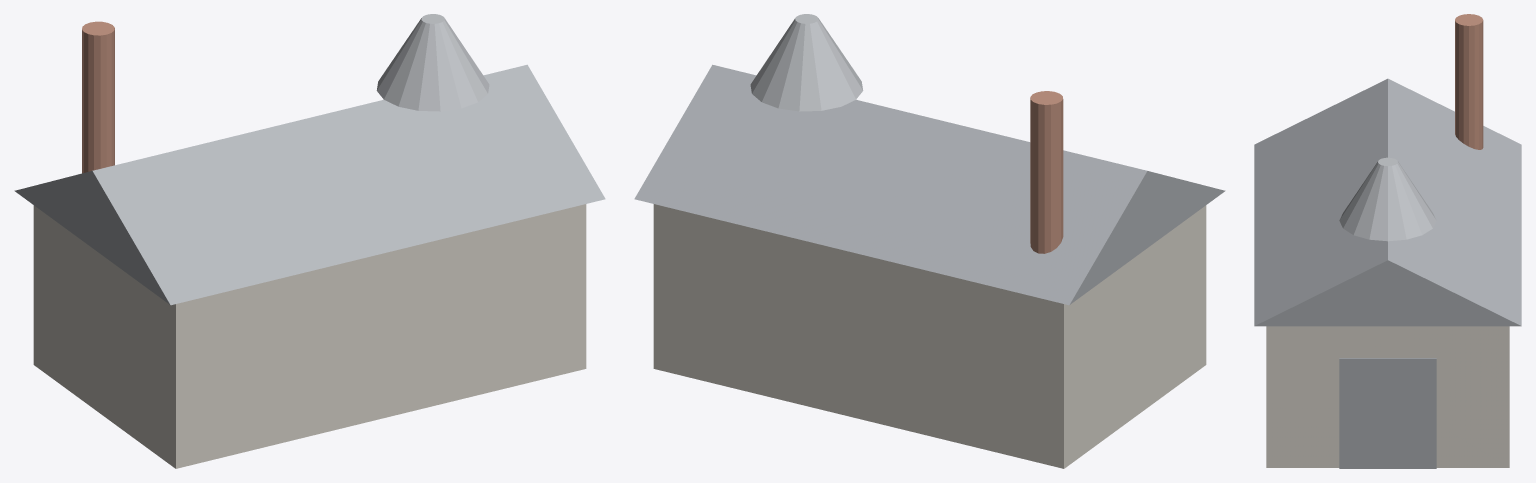
Rendered from mill.glb.
3 renders of one model, left to right at view 1: azimuth 30°, elevation 25°; view 2: azimuth 150°, elevation 25°; view 3: azimuth 270°, elevation 25°, orthographic. The views are drawn at different scales.
Visible parts, largest first — view 1: shed, roof, hopper, chimney; view 2: shed, roof, hopper, chimney; view 3: roof, shed, door, hopper, chimney.
Part boxes in pixels (x1=…): shed: x1=33, y1=204, x2=586, y2=468; roof: x1=14, y1=64, x2=605, y2=305; hopper: x1=376, y1=14, x2=489, y2=111; chimney: x1=82, y1=21, x2=114, y2=173; shed: x1=653, y1=204, x2=1206, y2=468; roof: x1=634, y1=64, x2=1225, y2=305; hopper: x1=750, y1=14, x2=863, y2=111; chimney: x1=1030, y1=91, x2=1063, y2=253; roof: x1=1254, y1=78, x2=1521, y2=326; shed: x1=1266, y1=326, x2=1509, y2=467; door: x1=1339, y1=358, x2=1436, y2=468; hopper: x1=1339, y1=157, x2=1436, y2=241; chimney: x1=1455, y1=14, x2=1483, y2=149.
Bounding box in the file's own units: 10.6 × 8 × 6.6.
